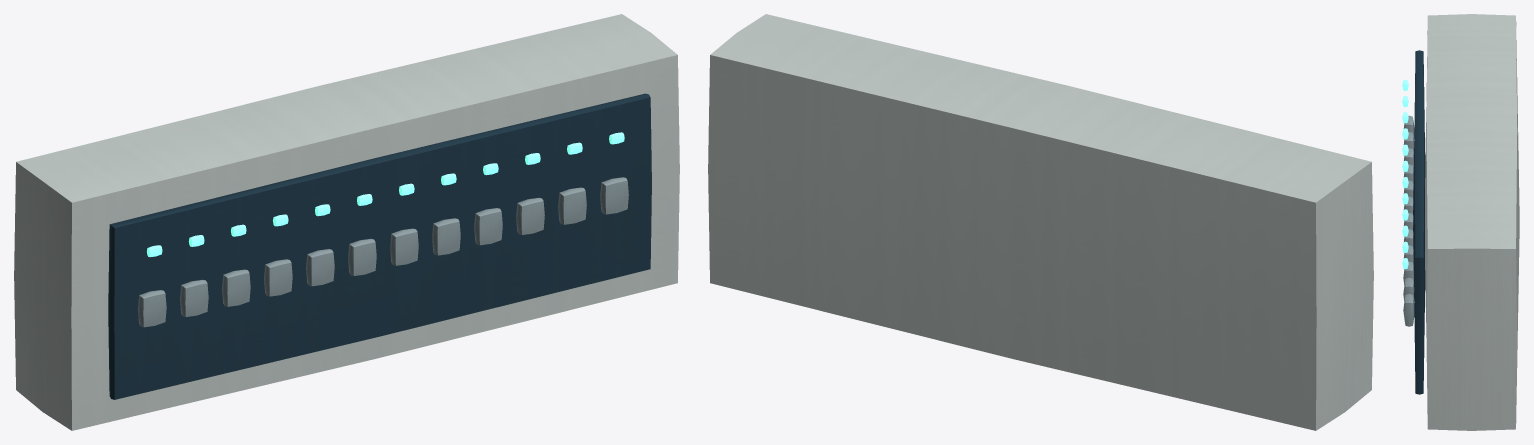
The model's file is wall-switch.glb.
3 renders of one model, left to right at view 1: azimuth 30°, elevation 25°; view 2: azimuth 150°, elevation 25°; view 3: azimuth 270°, elevation 25°, orthographic. The views are drawn at different scales.
Parts seen in each view (by area): view 1: wall-switch; view 2: wall-switch; view 3: wall-switch.
Boxes of the visible parts, x1,y1,x2,y2 form: wall-switch: [14, 14, 679, 430]; wall-switch: [708, 14, 1373, 430]; wall-switch: [1402, 14, 1519, 430].
Bounding box in the file's own units: 0.76 × 0.28 × 0.1595.
26 materials, 26 textured.
